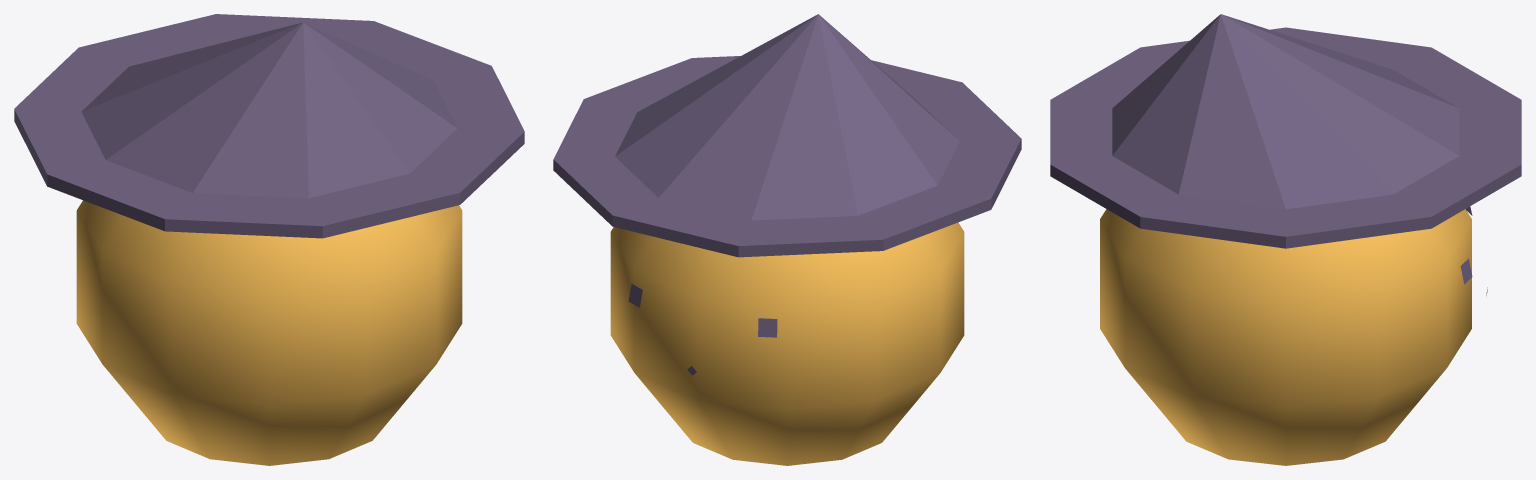
File: alkoldun.gltf
3 renders of one model, left to right at view 1: azimuth 30°, elevation 25°; view 2: azimuth 150°, elevation 25°; view 3: azimuth 270°, elevation 25°, orthographic. The views are drawn at different scales.
Parts seen in each view (by area): view 1: alkoldun; view 2: alkoldun; view 3: alkoldun.
Part boxes in pixels (x1=…): alkoldun: x1=14, y1=14, x2=524, y2=465; alkoldun: x1=553, y1=14, x2=1021, y2=465; alkoldun: x1=1050, y1=14, x2=1521, y2=465.
Bounding box in the file's own units: 0.76 × 0.74 × 0.7228.
